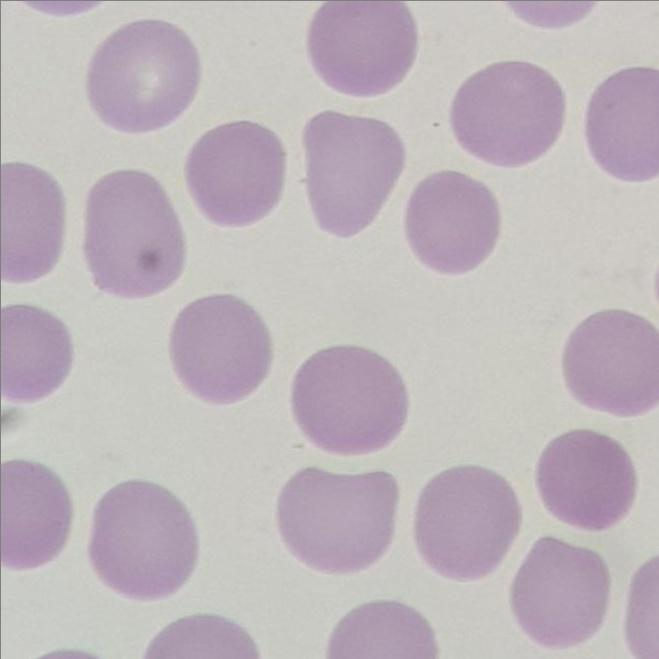Uninfected: (278, 467, 402, 578), (87, 481, 197, 601), (290, 344, 408, 455), (80, 174, 187, 295), (85, 21, 198, 134), (413, 467, 522, 584), (303, 109, 401, 232), (172, 294, 278, 404), (452, 61, 562, 164), (510, 537, 608, 651), (185, 117, 286, 223), (403, 167, 497, 274), (310, 0, 418, 93), (563, 307, 659, 411), (540, 426, 634, 529), (0, 161, 68, 285), (585, 67, 659, 179), (0, 462, 72, 571), (0, 299, 71, 399)
